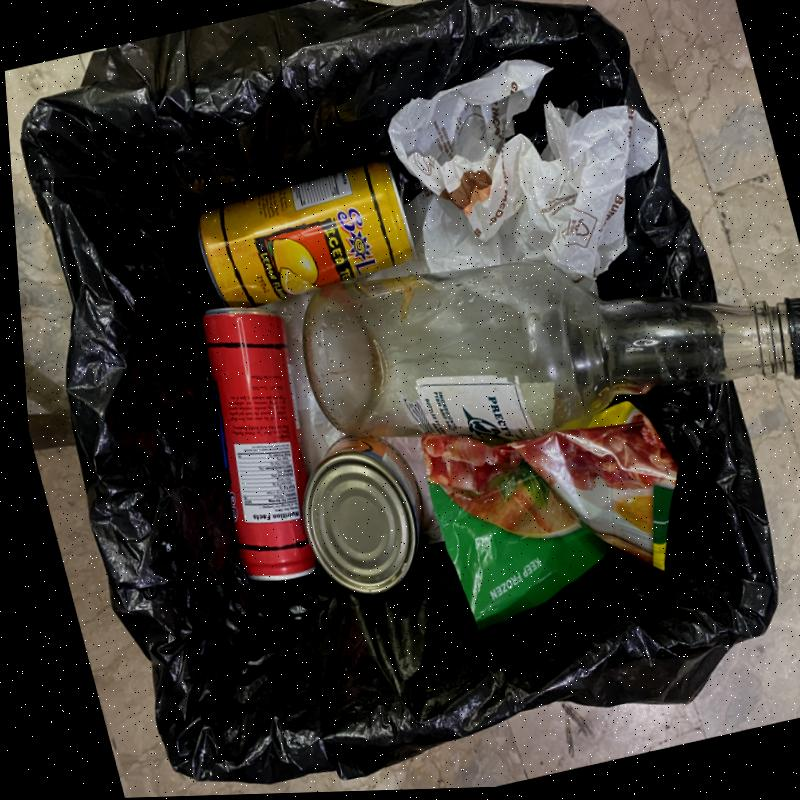aluminum: (194, 159, 415, 308), (200, 307, 316, 584), (301, 435, 422, 596)
food wrapper: (416, 400, 676, 629)
glass bottle: (299, 258, 800, 447)
paper: (385, 59, 656, 281)
